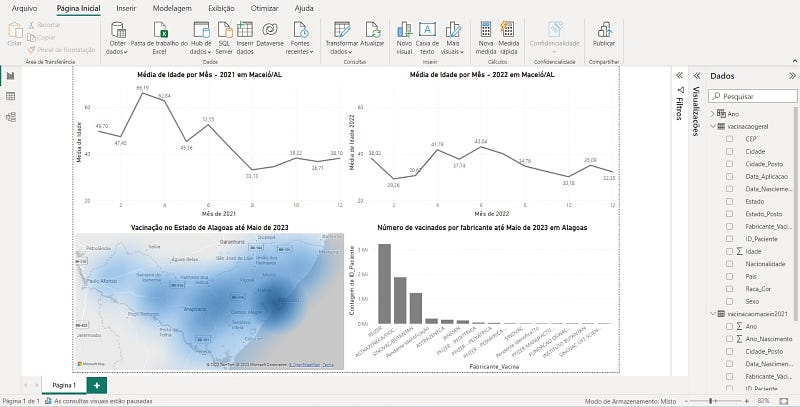

The page's visual inventory and layout, read from the dashboard file:
{"tool":"powerbi","page":{"name":"Página 1","canvas":[1280,720],"ordinal":0},"visuals":[{"type":"lineChart","title":"Média de Idade por Mês - 2021 em Maceió/AL","fields":{"Category":["vacinacaomaceio2021.Mes"],"Y":["Avg(vacinacaomaceio2021.Idade 2021)"]},"box":[0,11,640.5,349.6],"z":0},{"type":"lineChart","title":"Média de Idade por Mês - 2022 em Maceió/AL","fields":{"Category":["vacinacaomaceio2022.Mês de 2022"],"Y":["Avg(vacinacaomaceio2022.Idade 2022)"]},"box":[640.5,11,639.3,349.6],"z":1000},{"type":"map","title":"Vacinação no Estado de Alagoas até Maio de 2023","fields":{"Size":["CountNonNull(vacinacaogeral.ID_Paciente)"],"Category":["vacinacaogeral.Cidade_Posto"]},"box":[0,370.4,640.5,349.6],"z":2000},{"type":"columnChart","title":"Número de vacinados por fabricante até Maio de 2023 em Alagoas","fields":{"Category":["vacinacaogeral.Fabricante_Vacina"],"Y":["CountNonNull(vacinacaogeral.ID_Paciente)"]},"box":[641,370,639,350],"z":3000}]}

Visuals, with their boxes on the page's 1280x720 design canvas (x1, y1, x2, y2). These are canvas units, not pixel positions in the 800x407 screenshot, which may show the page scaled, cropped or inside an application window:
"Média de Idade por Mês - 2021 em Maceió/AL" lineChart: rect(0, 11, 640, 361)
"Média de Idade por Mês - 2022 em Maceió/AL" lineChart: rect(640, 11, 1280, 361)
"Vacinação no Estado de Alagoas até Maio de 2023" map: rect(0, 370, 640, 720)
"Número de vacinados por fabricante até Maio de 2023 em Alagoas" columnChart: rect(641, 370, 1280, 720)
